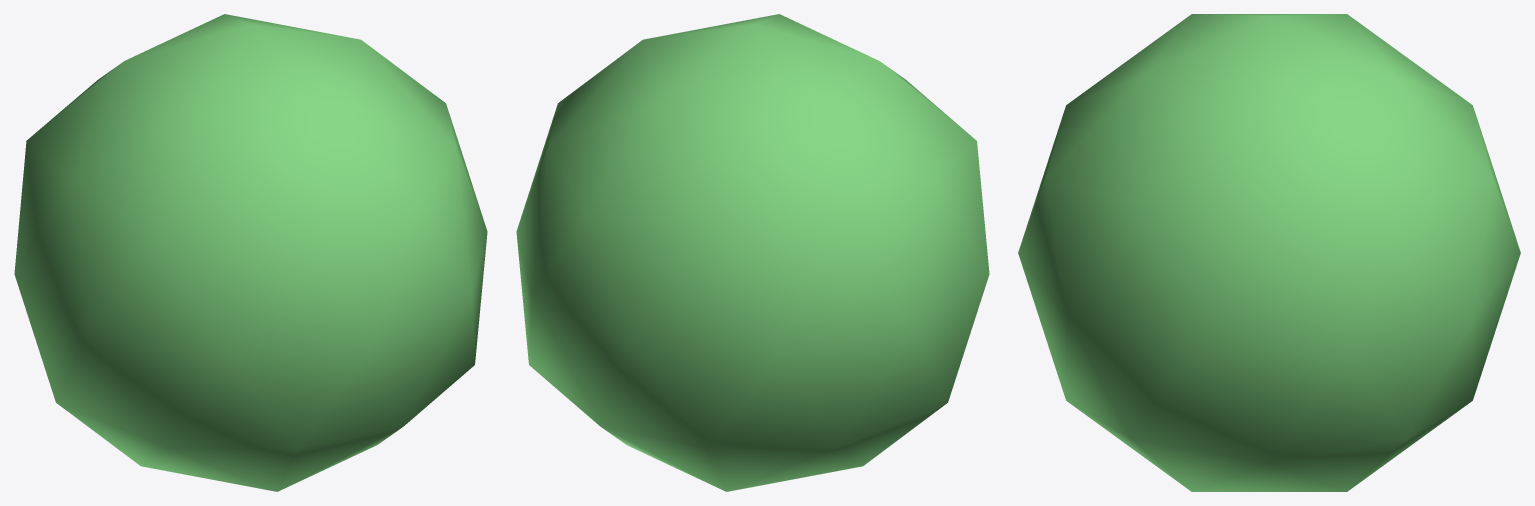
The picture shows the model from 3 angles, left to right: view 1: azimuth 30°, elevation 25°; view 2: azimuth 150°, elevation 25°; view 3: azimuth 270°, elevation 25°; orthographic projection. The views are drawn at different scales.
Visible parts, largest first — view 1: sphere_low; view 2: sphere_low; view 3: sphere_low.
Part boxes in pixels (x1,y1,x2,y2): sphere_low: (14,14,487,491); sphere_low: (516,14,989,491); sphere_low: (1018,14,1520,491).
Size of the model in its own units: 18.45 by 20.2 by 19.4.
